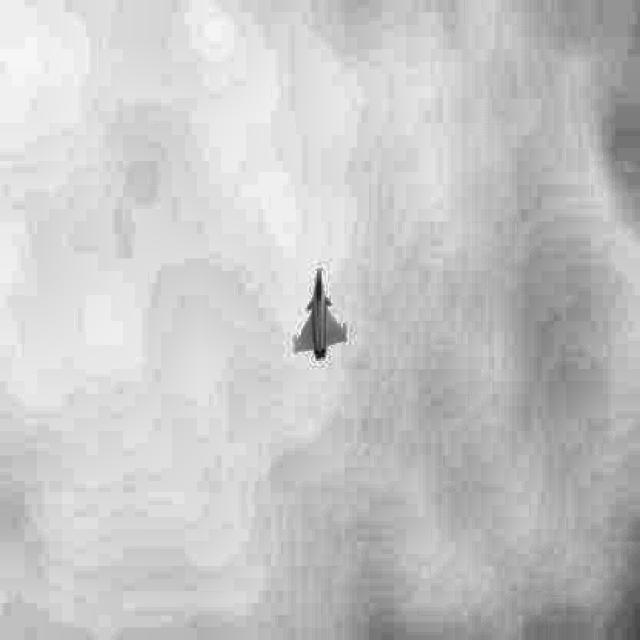Rafale: (294, 268, 346, 360)
